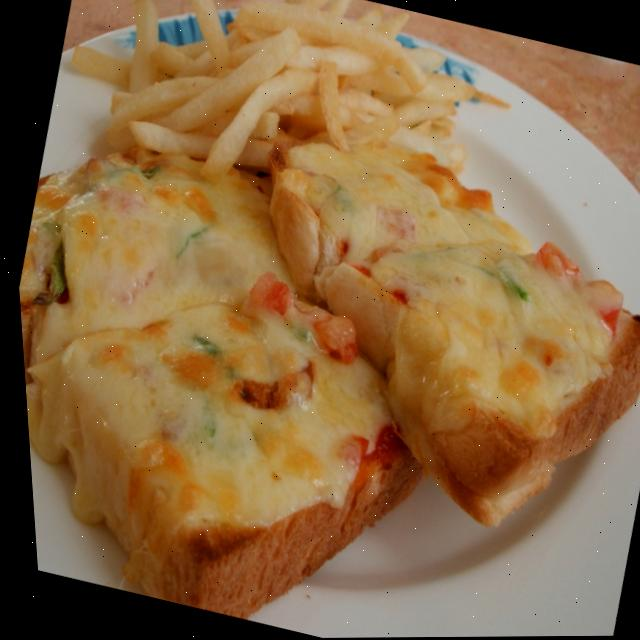面包点心: (4, 77, 640, 640)
